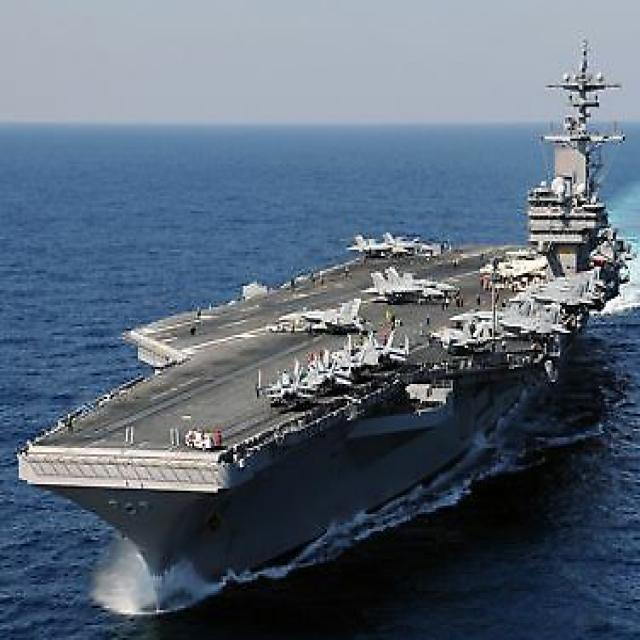navalvessels: (51, 54, 639, 583)
